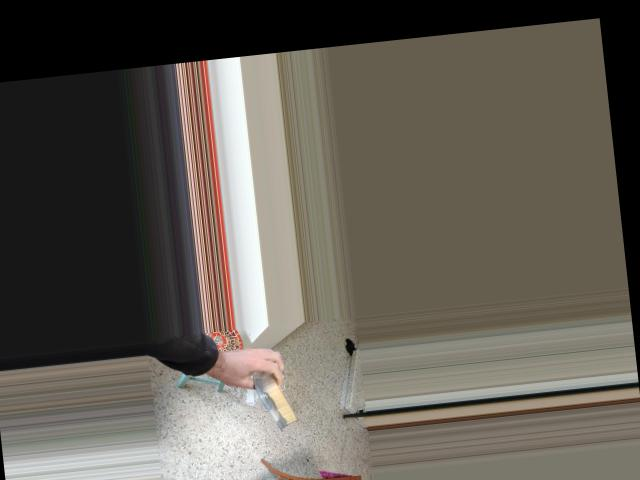cheese: (232, 335, 319, 438)
